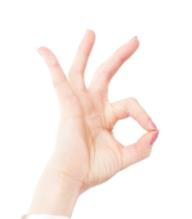left: (36, 29, 163, 183)
